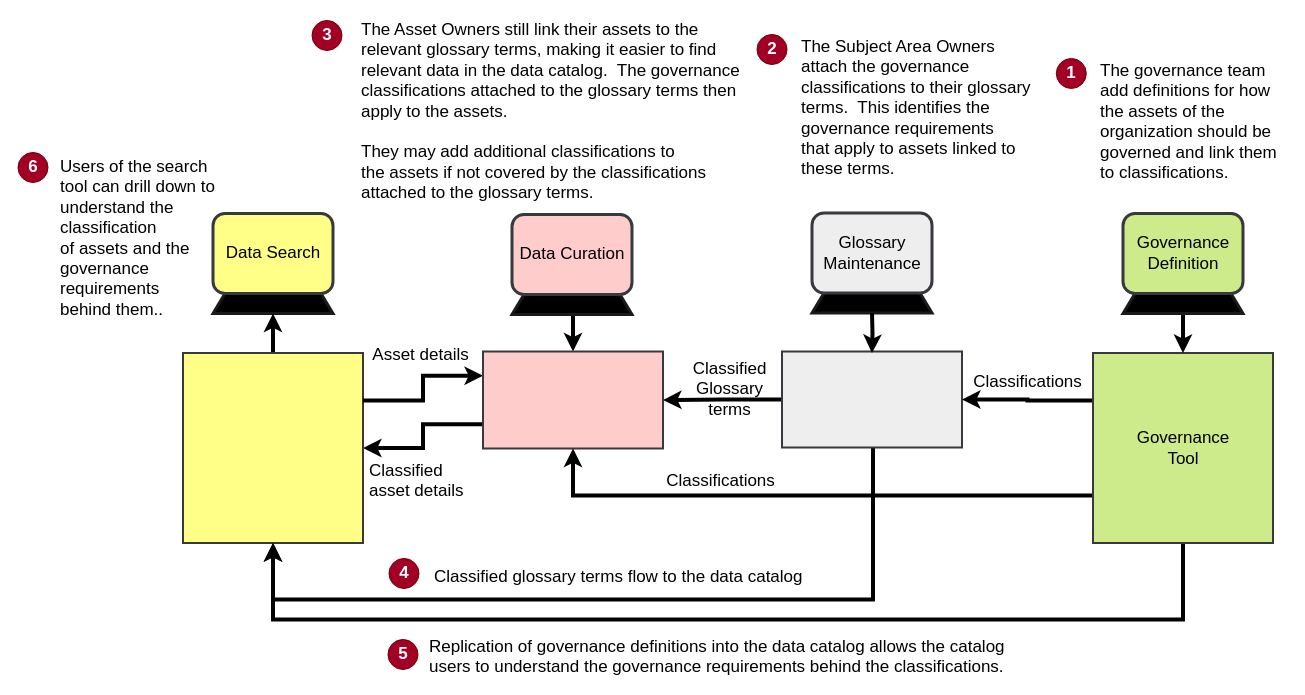
Image size: 1305x695. Some labels were removed from this diagram. The shapes that lost their labels are listed below. From the top down, each one's box as (x1, y1, x2, y2) in pixels, then its label:
(482, 350, 664, 449): Data Curation Tool
(780, 350, 962, 448): Glossary Authoring Tool
(182, 352, 364, 544): Asset Catalog
